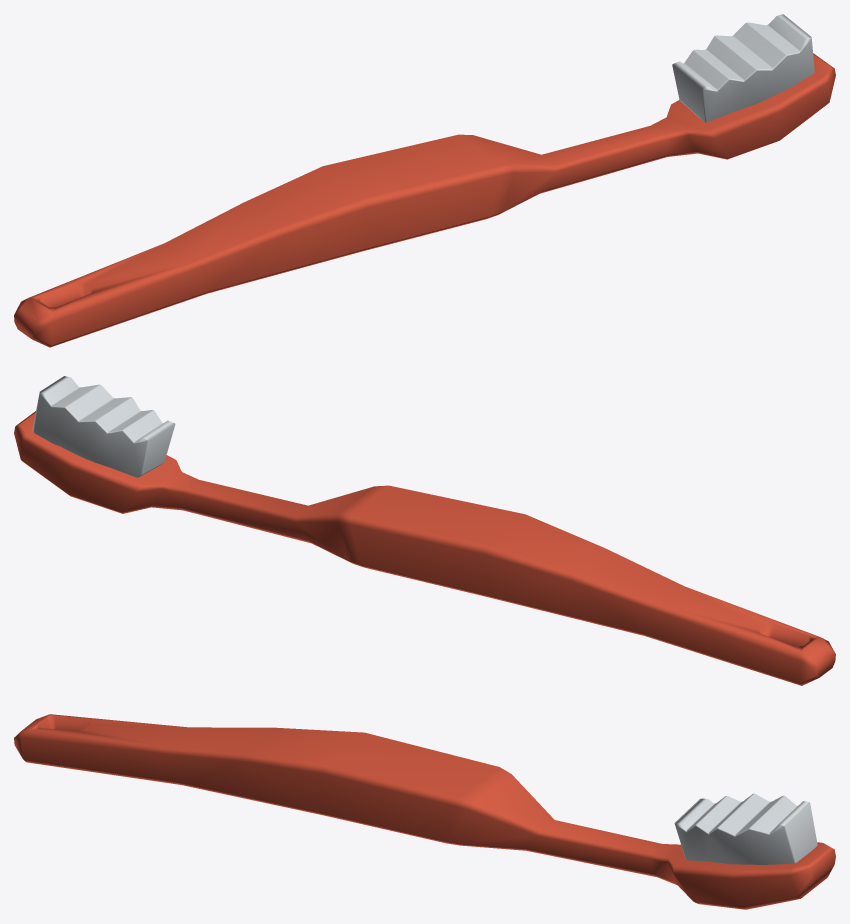
Rendered from toothbrush.fbx.
3 renders of one model, top to bottom at view 1: azimuth 30°, elevation 25°; view 2: azimuth 150°, elevation 25°; view 3: azimuth 330°, elevation 25°, orthographic. The views are drawn at different scales.
Parts seen in each view (by area): view 1: Base01__M_Cnsw_58_FloorSet_Obj_Plastic_glossy.001; view 2: Base01__M_Cnsw_58_FloorSet_Obj_Plastic_glossy.001; view 3: Base01__M_Cnsw_58_FloorSet_Obj_Plastic_glossy.001.
Part boxes in pixels (x1=…): Base01__M_Cnsw_58_FloorSet_Obj_Plastic_glossy.001: x1=14, y1=14, x2=835, y2=347; Base01__M_Cnsw_58_FloorSet_Obj_Plastic_glossy.001: x1=14, y1=376, x2=835, y2=685; Base01__M_Cnsw_58_FloorSet_Obj_Plastic_glossy.001: x1=14, y1=714, x2=835, y2=909.
Bounding box in the file's own units: 5346 × 765 × 596.
